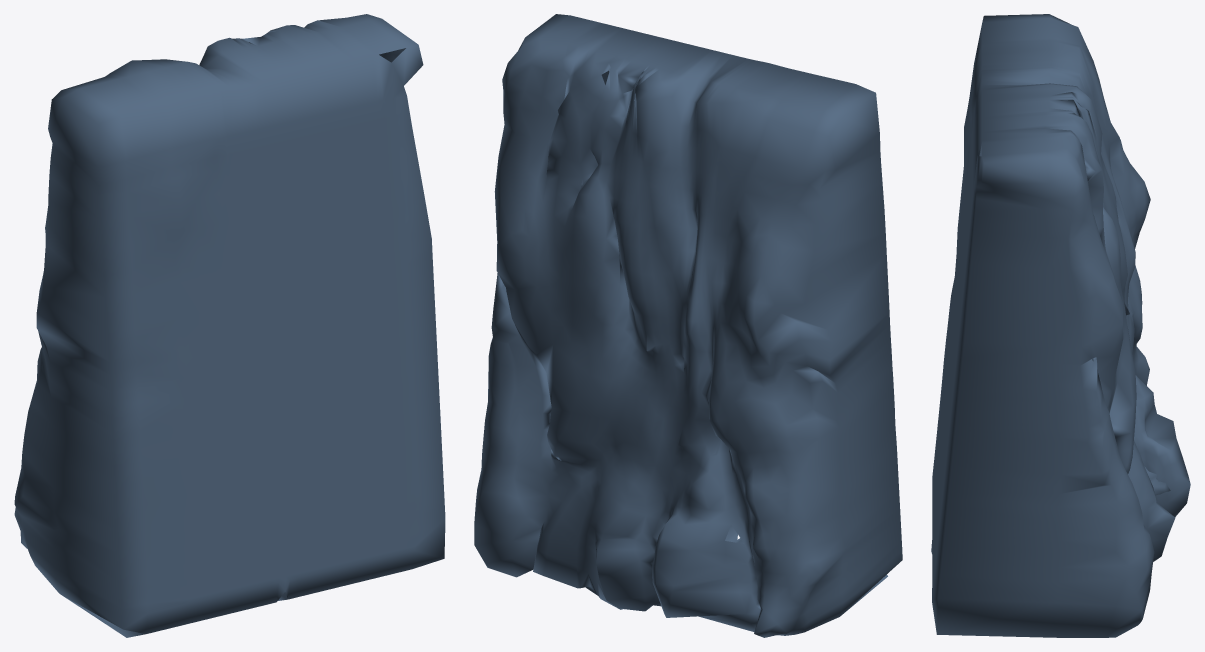
File: Wall.Basic.003.dae
The picture shows the model from 3 angles, left to right: view 1: azimuth 30°, elevation 25°; view 2: azimuth 150°, elevation 25°; view 3: azimuth 270°, elevation 25°; orthographic projection. The views are drawn at different scales.
Visible parts, largest first — view 1: Plane.004; view 2: Plane.004; view 3: Plane.004.
Part boxes in pixels (x1,y1,x2,y2): Plane.004: (14, 14, 445, 637); Plane.004: (474, 14, 902, 637); Plane.004: (931, 14, 1190, 637).
Bounding box in the file's own units: 13.1 × 9.05 × 18.66.
